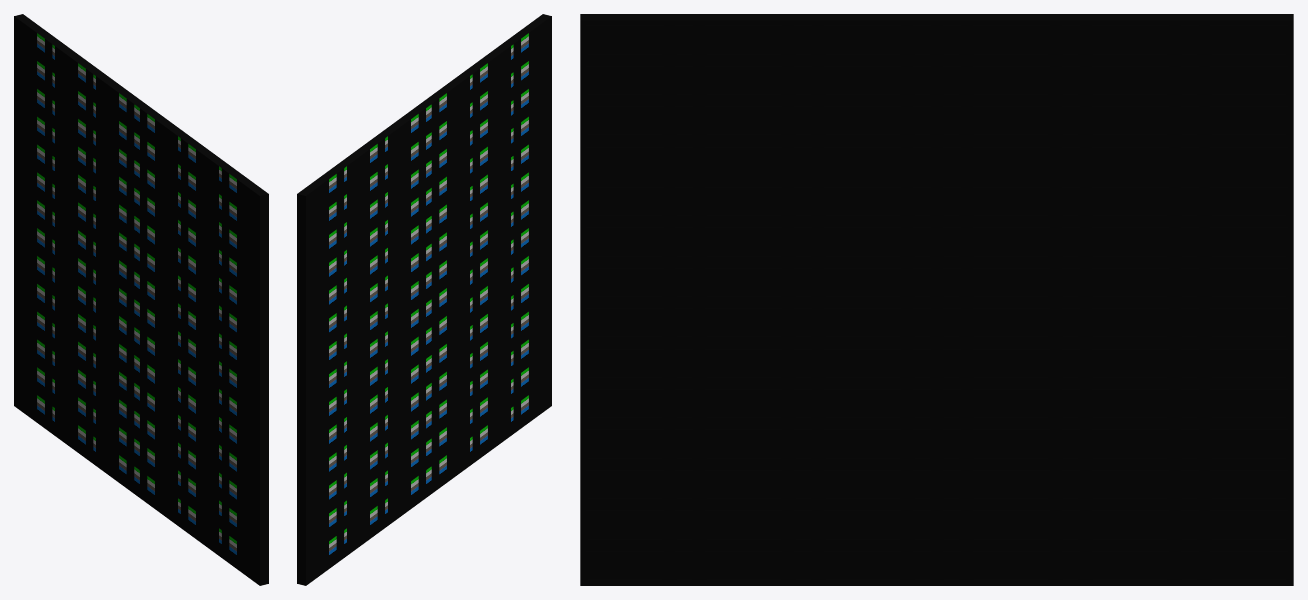
File: Wall_of_Windows.fbx
The picture shows the model from 3 angles, left to right: view 1: azimuth 30°, elevation 25°; view 2: azimuth 150°, elevation 25°; view 3: azimuth 270°, elevation 25°; orthographic projection. The views are drawn at different scales.
Visible parts, largest first — view 1: Wall of Windows_PACK; view 2: Wall of Windows_PACK; view 3: Wall of Windows_PACK.
Boxes of the visible parts, box(x1,y1,x2,y2) form: Wall of Windows_PACK: box(14, 14, 268, 585); Wall of Windows_PACK: box(297, 14, 551, 585); Wall of Windows_PACK: box(580, 14, 1293, 585).
Bounding box in the file's own units: 1.05 × 48 × 42.
1 material, 1 textured.
